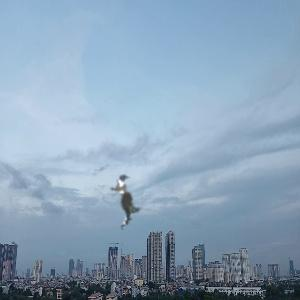drone: (26, 90, 232, 296)
